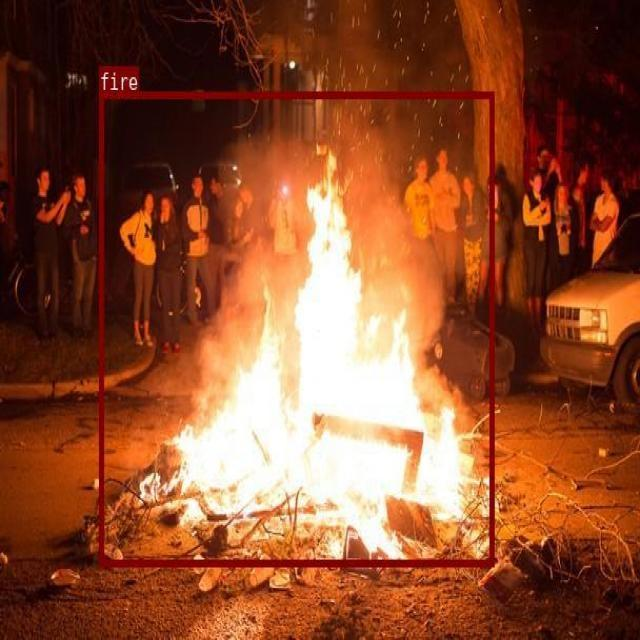fire: (99, 91, 493, 565)
